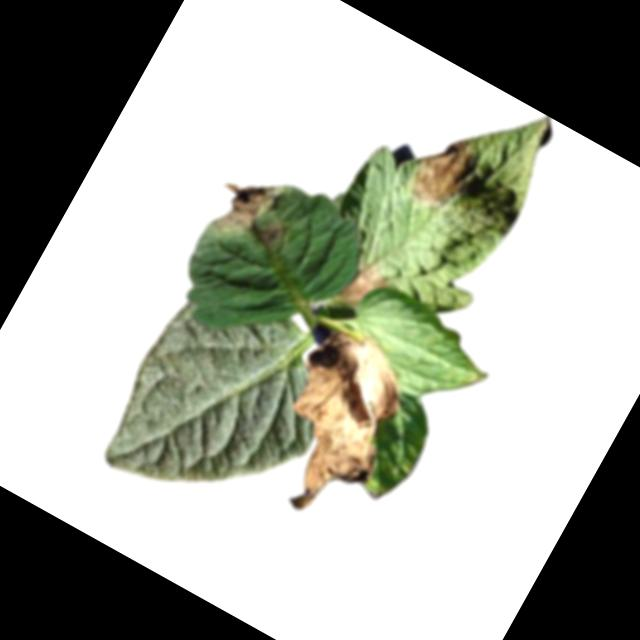Late_blight: (240, 314, 429, 533), (398, 122, 491, 224), (202, 160, 288, 254), (332, 255, 397, 323), (257, 217, 291, 253)
healthy: (90, 266, 359, 546)
